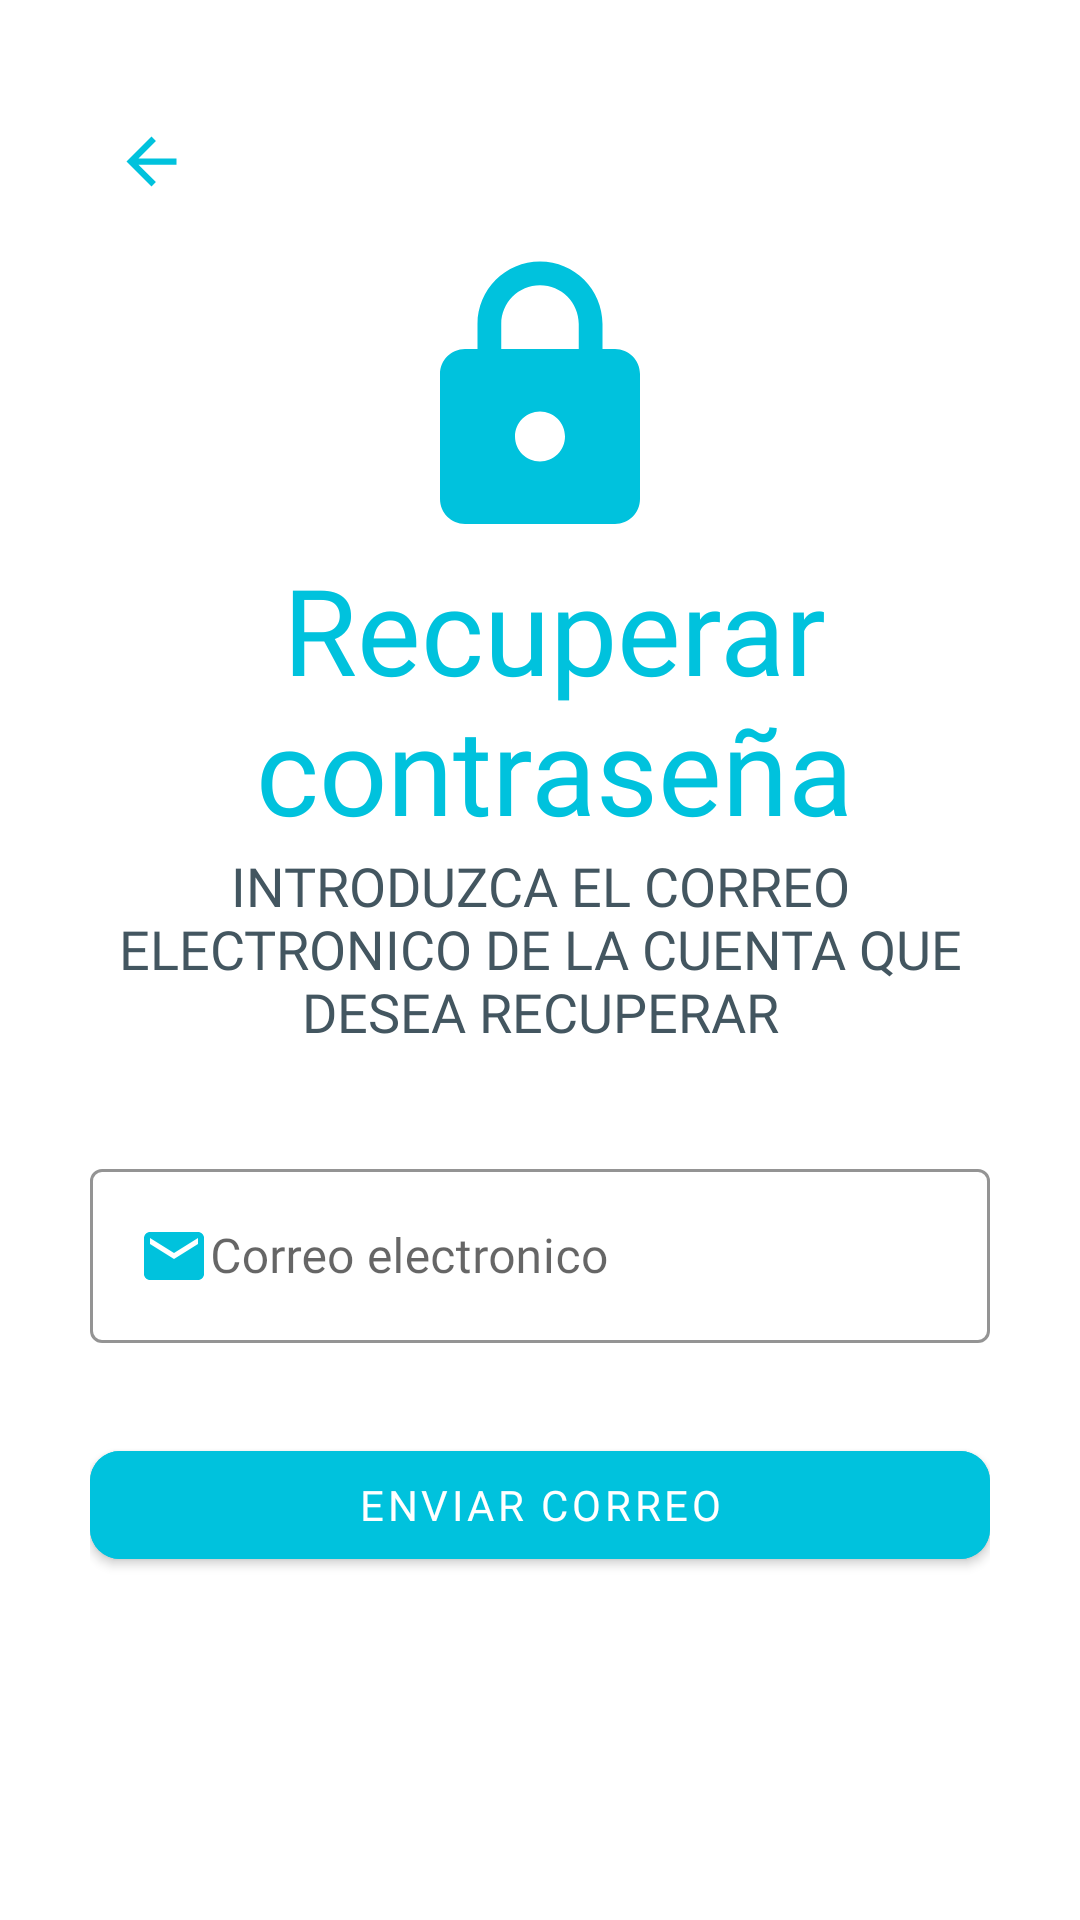

Where icons sit on this 1080*1920 app screen, as [left=x1, top=y1, right=x2, bottom=y2]:
Imagen de candado: [left=440, top=261, right=640, bottom=524]
